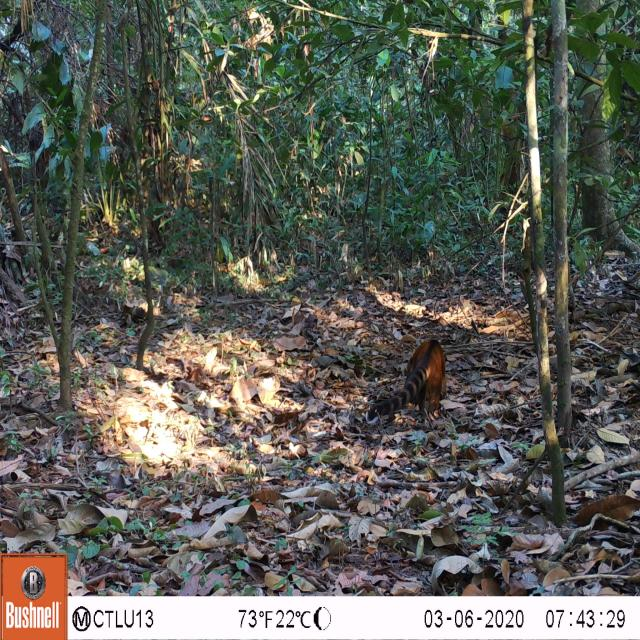South American Coati: (356, 321, 460, 432)
